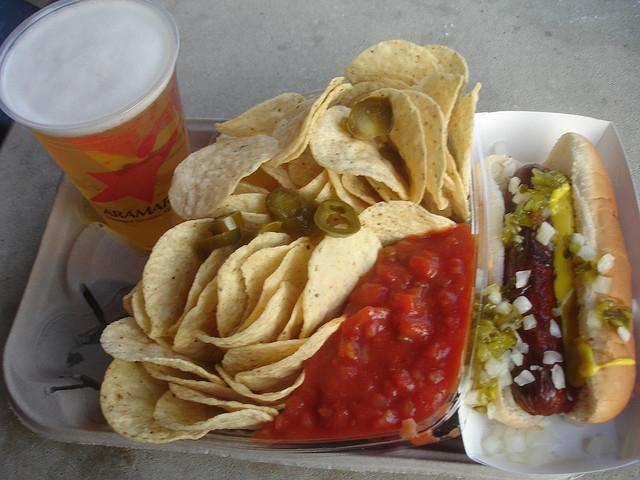onion: (586, 432, 616, 458), (484, 358, 509, 378), (536, 222, 556, 246), (525, 434, 563, 446), (550, 364, 566, 390), (482, 436, 502, 456), (512, 295, 533, 314), (504, 436, 526, 454), (592, 275, 612, 294), (597, 254, 615, 275), (513, 370, 535, 386), (494, 299, 514, 316), (499, 162, 517, 180), (576, 245, 596, 261), (542, 350, 564, 364), (516, 270, 532, 288), (576, 286, 591, 305), (586, 310, 600, 329), (511, 193, 532, 205), (522, 314, 537, 330), (494, 140, 510, 155), (510, 349, 524, 366), (508, 176, 521, 194), (550, 319, 562, 338), (464, 390, 479, 405), (570, 232, 586, 246), (617, 326, 631, 342), (458, 372, 468, 394), (536, 416, 554, 428), (476, 344, 488, 362), (476, 268, 484, 294), (488, 292, 502, 305), (502, 426, 516, 439), (462, 379, 475, 393), (486, 402, 496, 420), (482, 284, 500, 294), (630, 298, 638, 314), (518, 342, 528, 354), (554, 450, 566, 458)
